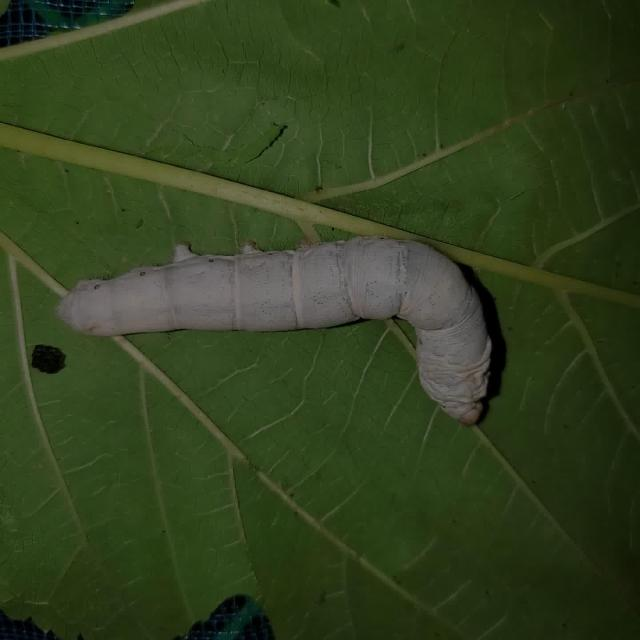Healthy: (34, 202, 512, 494)
